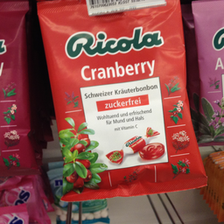candy: (38, 3, 208, 195)
